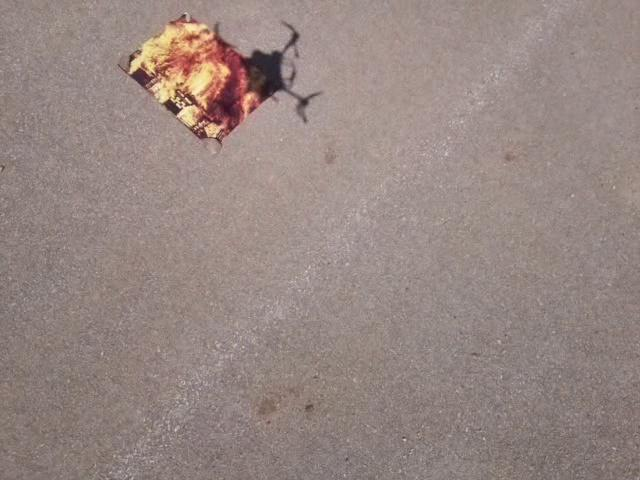fire-poster: (116, 11, 296, 153)
